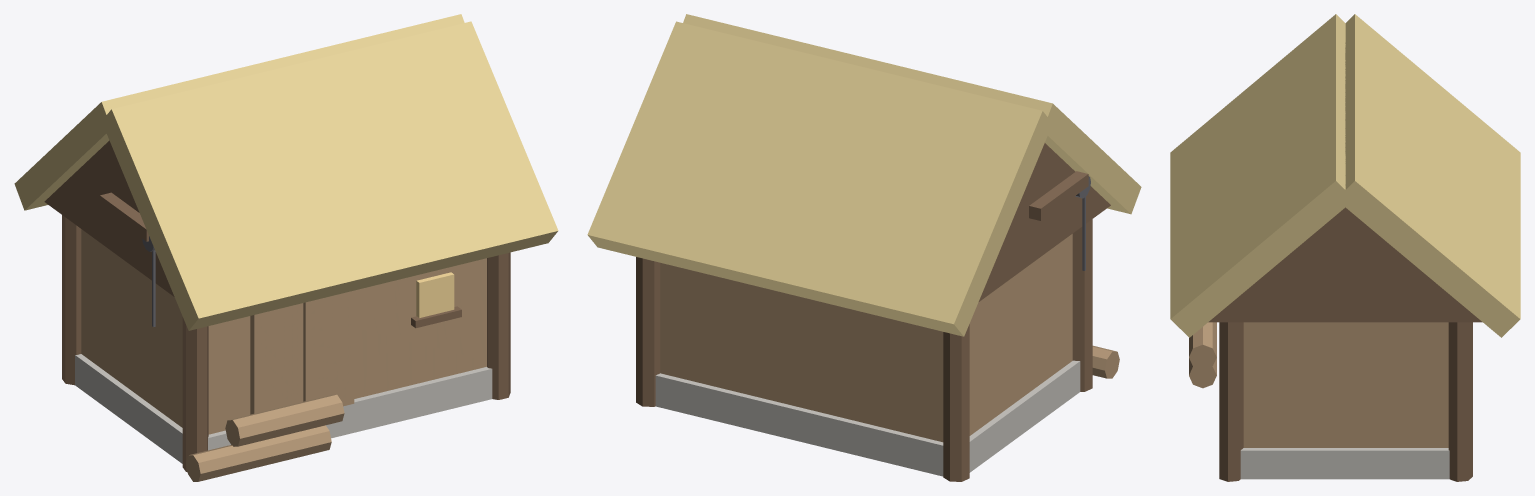
File: lodge.glb
3 views of the same model, side by side, from view 1: azimuth 30°, elevation 25°; view 2: azimuth 150°, elevation 25°; view 3: azimuth 270°, elevation 25° (orthographic). The views are drawn at different scales.
Visible parts, largest first — view 1: Cube.003, Cube.001, Cube, Cube.004, hastial, Cube.006, Cube.005, Cylinder, Cylinder.007, Cylinder.002, Cylinder.005, Cylinder.001 (+3 smaller); view 2: Cube.004, Cube.001, Cube, Cube.003, hastial, Cylinder.001, Cylinder.003, Cylinder, Cube.010, Cylinder.005; view 3: Cube.003, Cube.004, Cube.001, hastial.001, Cube, Cylinder.003, Cylinder.002, Cylinder.007, Cylinder.006.
Part boxes in pixels (box(x1,y1,x2,y2)): Cube.003: box(101, 21, 558, 330); Cube.001: box(81, 229, 486, 434); Cube: box(75, 354, 492, 463); Cube.004: box(14, 14, 464, 210); hastial: box(44, 140, 174, 296); Cube.006: box(303, 290, 354, 406); Cube.005: box(250, 303, 303, 414); Cylinder: box(182, 317, 208, 472); Cylinder.007: box(225, 394, 344, 446); Cylinder.002: box(487, 252, 510, 399); Cylinder.005: box(186, 432, 304, 481); Cylinder.001: box(62, 215, 81, 385); Cube.004: box(587, 21, 1047, 336); Cube.001: box(660, 234, 1072, 442); Cube: box(655, 360, 1080, 476); Cube.003: box(683, 14, 1141, 214); hastial: box(978, 143, 1110, 301); Cylinder.001: box(943, 324, 969, 481); Cylinder.003: box(636, 257, 660, 406); Cylinder: box(1072, 219, 1092, 391); Cube.010: box(1029, 171, 1088, 220); Cylinder.005: box(1092, 345, 1119, 378); Cube.003: box(1170, 14, 1354, 337); Cube.004: box(1337, 14, 1520, 337); Cube.001: box(1243, 322, 1448, 447); hastial.001: box(1208, 207, 1482, 322); Cube: box(1240, 448, 1449, 479); Cylinder.003: box(1448, 322, 1472, 481); Cylinder.002: box(1219, 322, 1243, 481); Cylinder.007: box(1189, 322, 1216, 369); Cylinder.006: box(1189, 358, 1216, 388).
Size of the model in its own units: 3.1 by 2.68 by 2.75.
